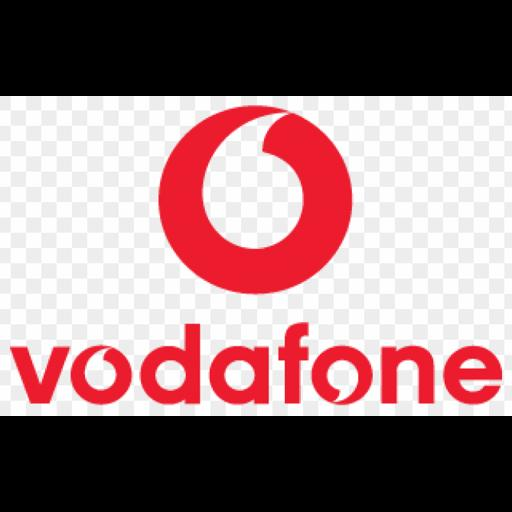Vodafone: (0, 96, 512, 416)
